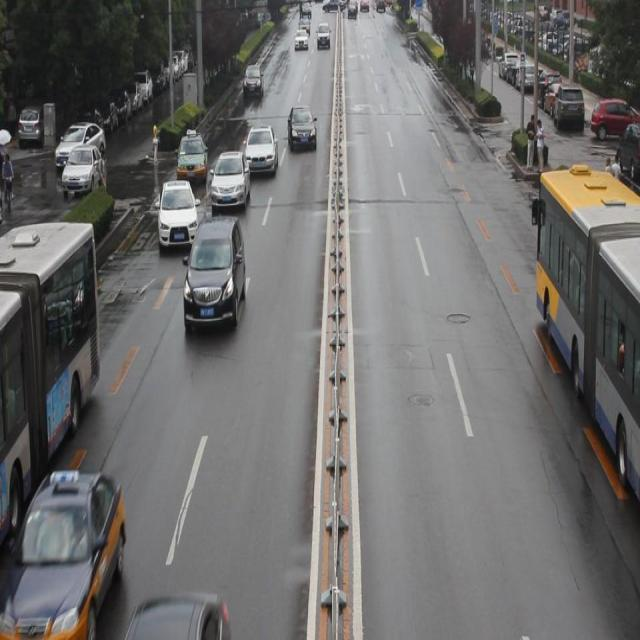car: (0, 470, 124, 630), (184, 218, 245, 334), (122, 595, 230, 640), (156, 179, 199, 252), (210, 148, 251, 218), (243, 125, 278, 178), (177, 128, 208, 187), (286, 106, 316, 152)
van: (530, 175, 640, 504), (1, 221, 103, 540)
